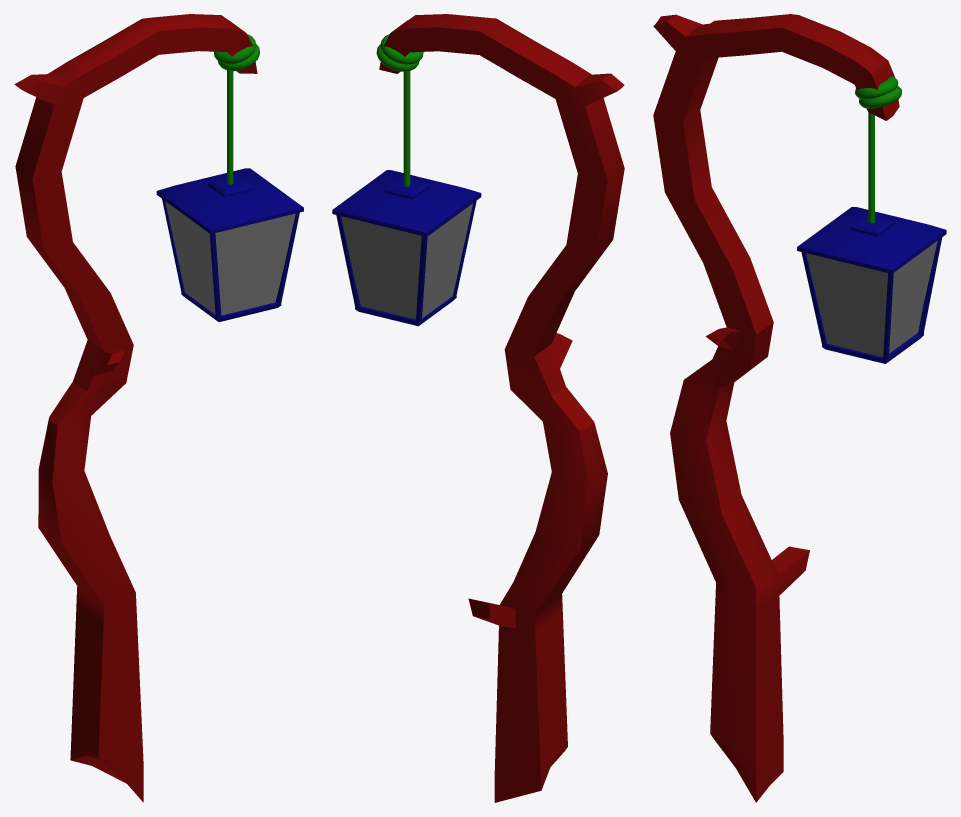
Rendered from LanternStaff.obj.
3 renders of one model, left to right at view 1: azimuth 30°, elevation 25°; view 2: azimuth 150°, elevation 25°; view 3: azimuth 330°, elevation 25°, orthographic.
Parts seen in each view (by area): view 1: pCube1, pCube4, pCube2, pCube3, pCylinder1; view 2: pCube1, pCube4, pCube2, pCube3, pCylinder1; view 3: pCube1, pCube4, pCube2, pCube3, pCylinder1.
Part boxes in pixels (x1,y1,x2,y2): pCube1: (14,14,257,802); pCube4: (165,201,295,315); pCube2: (156,168,303,234); pCube3: (162,199,299,321); pCylinder1: (227,70,233,184); pCube1: (379,14,624,802); pCube4: (341,203,472,319); pCube2: (332,170,481,236); pCube3: (336,201,476,326); pCylinder1: (403,71,410,186); pCube1: (653,14,899,802); pCube4: (806,241,937,357); pCube2: (797,207,946,273); pCube3: (801,237,942,363); pCylinder1: (868,112,874,223).
Bounding box in the file's own units: 2.77 × 7.89 × 1.03.
